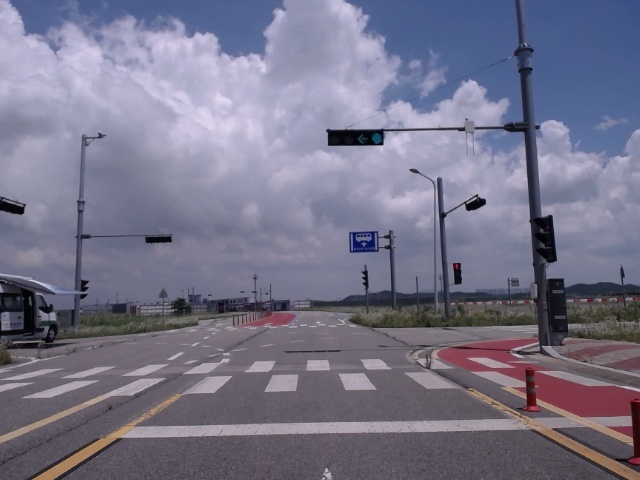all_green_4: (332, 131, 384, 147)
